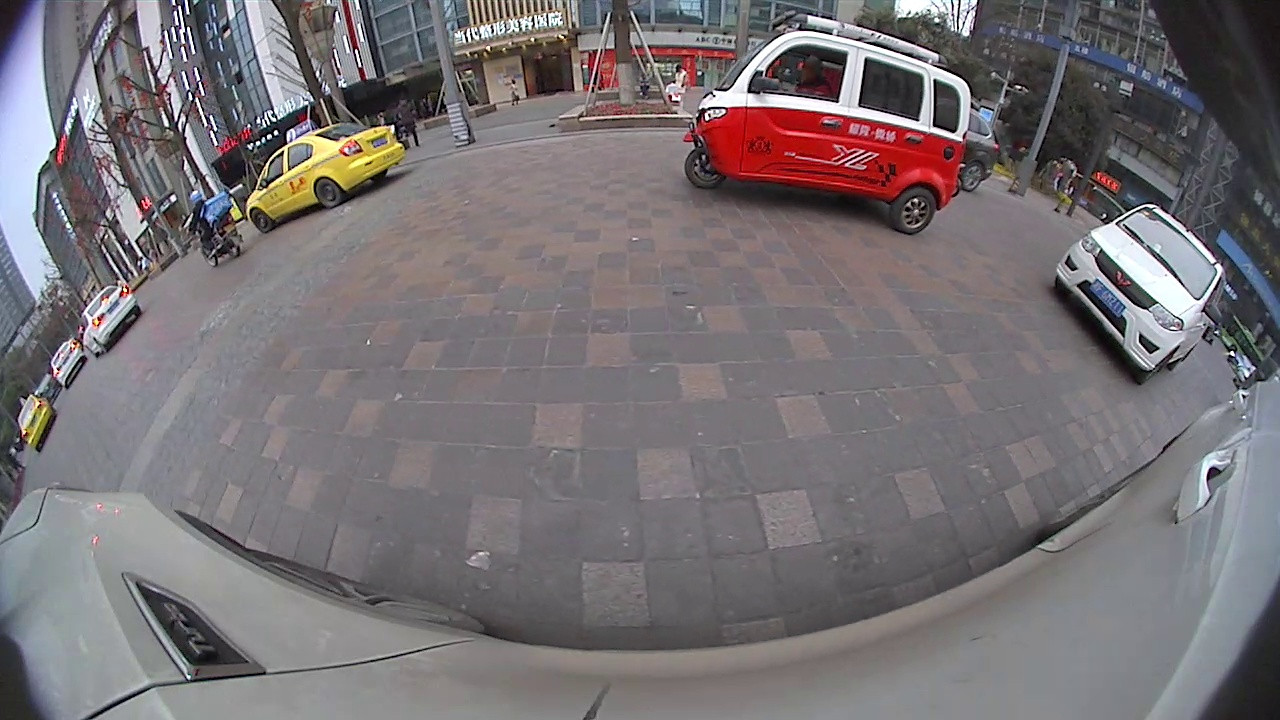car: (1053, 200, 1228, 386), (245, 118, 408, 235), (78, 283, 144, 360), (959, 106, 1000, 195), (15, 392, 59, 454), (48, 337, 90, 391)
front: (682, 145, 732, 193), (247, 205, 278, 234)
rear: (890, 185, 938, 236), (312, 177, 343, 211), (964, 158, 985, 198)
rider: (683, 12, 973, 236), (183, 188, 246, 270)
